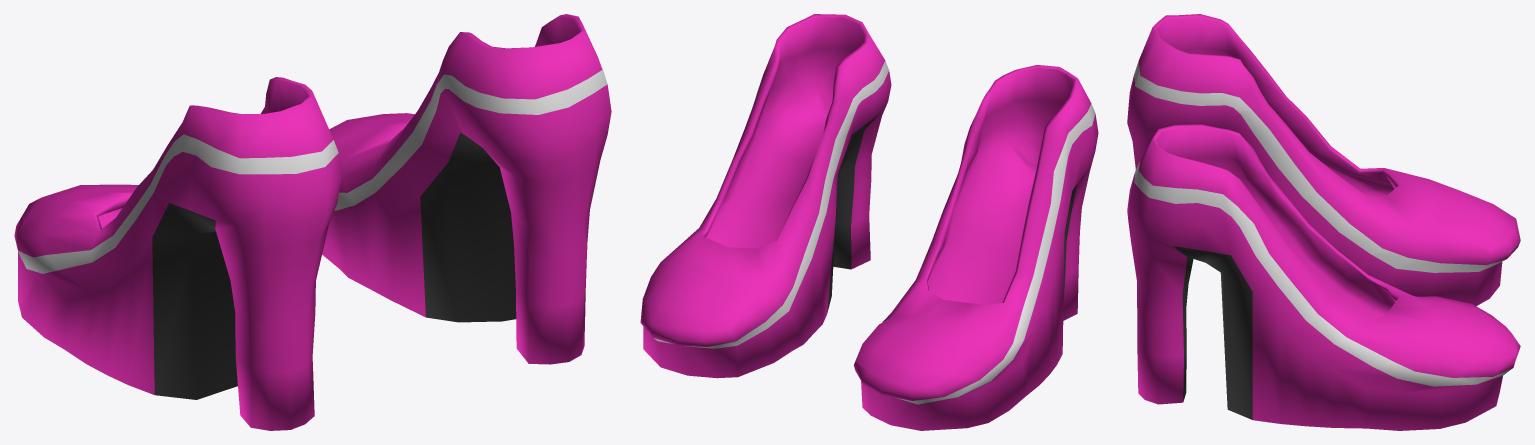
File: Heels.fbx
The picture shows the model from 3 angles, left to right: view 1: azimuth 30°, elevation 25°; view 2: azimuth 150°, elevation 25°; view 3: azimuth 270°, elevation 25°; orthographic projection. The views are drawn at different scales.
Parts seen in each view (by area): view 1: stack_shoes.002, stack_shoes.001; view 2: stack_shoes.002, stack_shoes.001; view 3: stack_shoes.001, stack_shoes.002.
Part boxes in pixels (x1,y1,x2,y2): stack_shoes.002: (14,77,341,430); stack_shoes.001: (322,14,611,364); stack_shoes.002: (854,65,1098,430); stack_shoes.001: (640,14,891,378); stack_shoes.001: (1127,124,1520,430); stack_shoes.002: (1127,14,1520,306).
Bounding box in the file's own units: 39.29 × 26.2 × 35.88.
